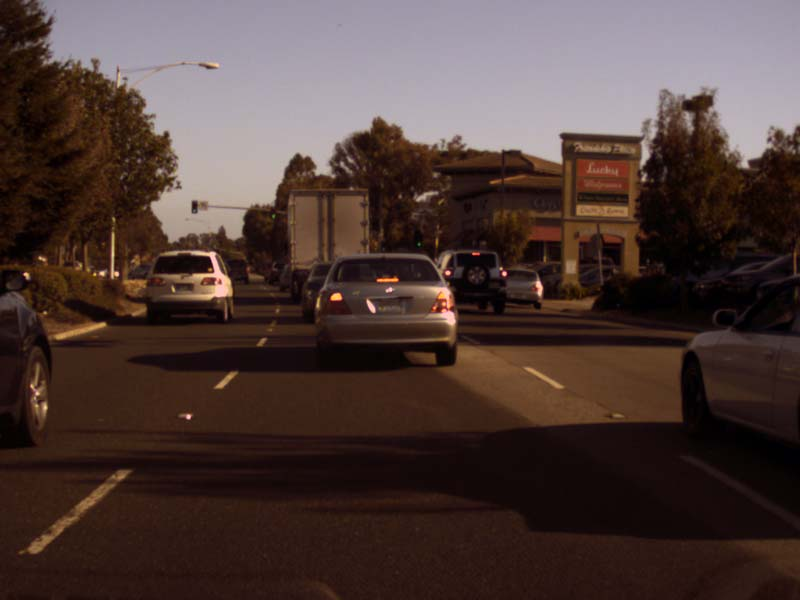Green: (414, 229, 422, 246), (270, 207, 276, 219), (192, 200, 196, 212)
